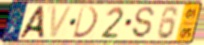2: (100, 6, 124, 40)
6: (156, 4, 179, 41)
A: (16, 4, 47, 39)
D: (71, 5, 100, 40)
S: (131, 6, 156, 40)
V: (48, 5, 75, 40)
